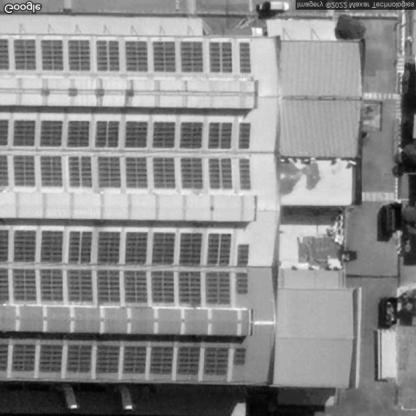solar-pv-panel: (0, 229, 251, 306), (0, 117, 253, 189), (0, 40, 252, 73), (0, 344, 246, 376)
